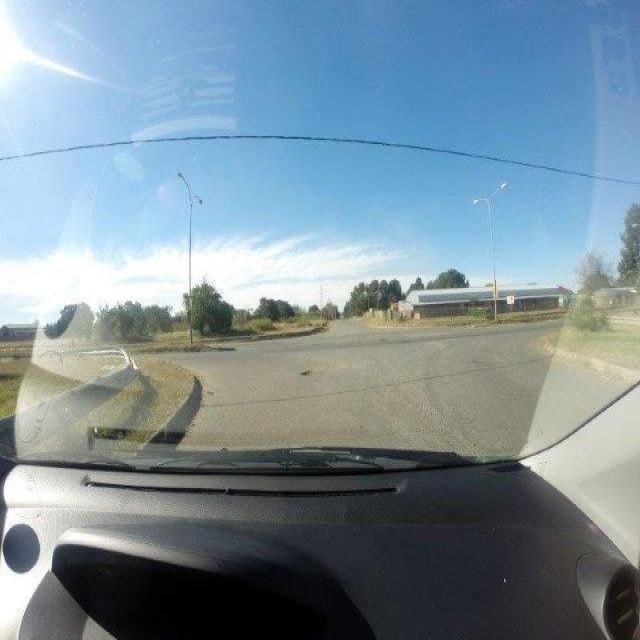lubang: (293, 364, 324, 379)
